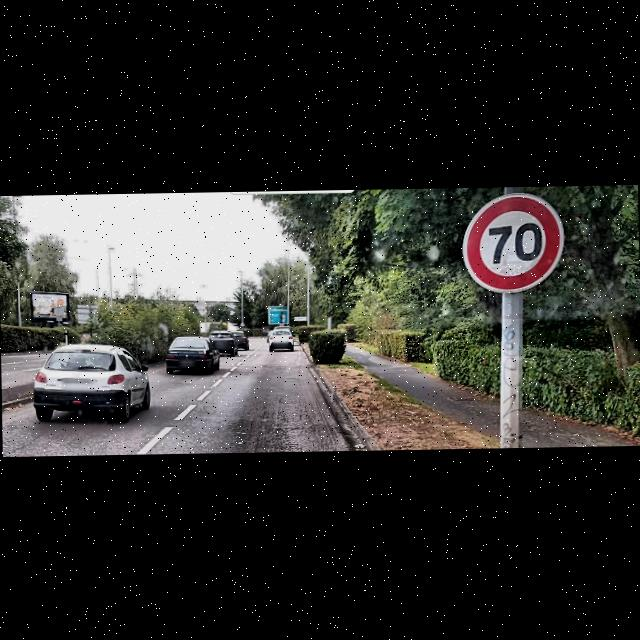speed_70: (462, 192, 565, 292)
